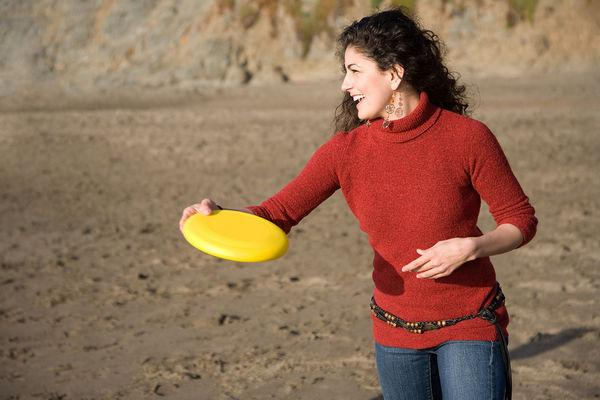person: (178, 10, 539, 400)
